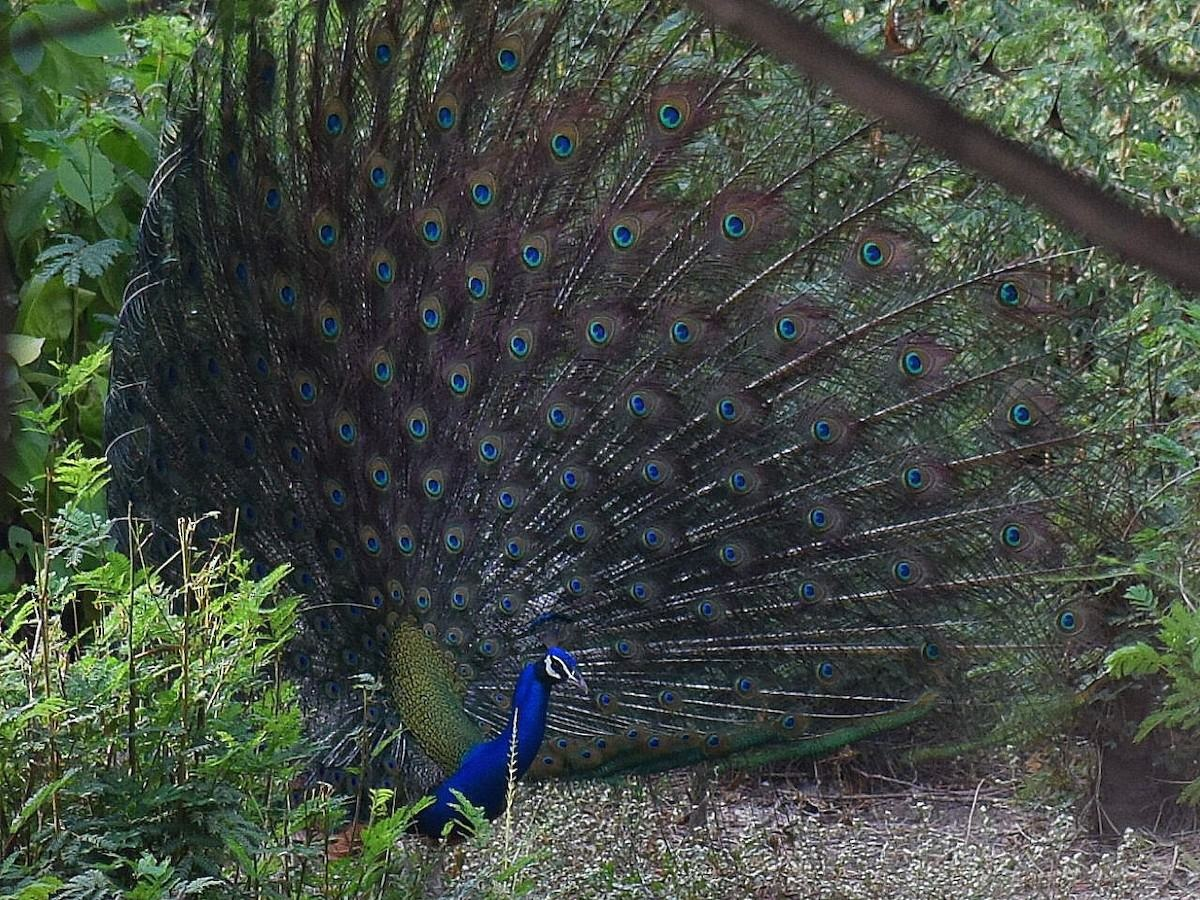peacock: (200, 116, 994, 808)
